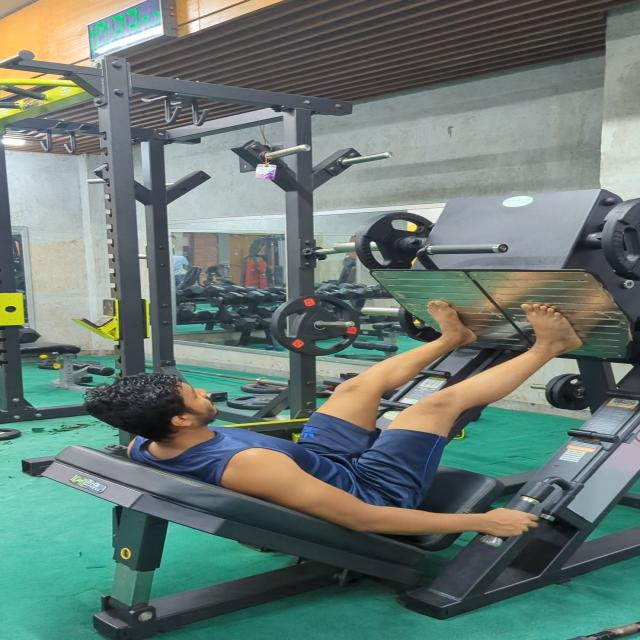Normal_LegPress: (80, 288, 590, 547)
